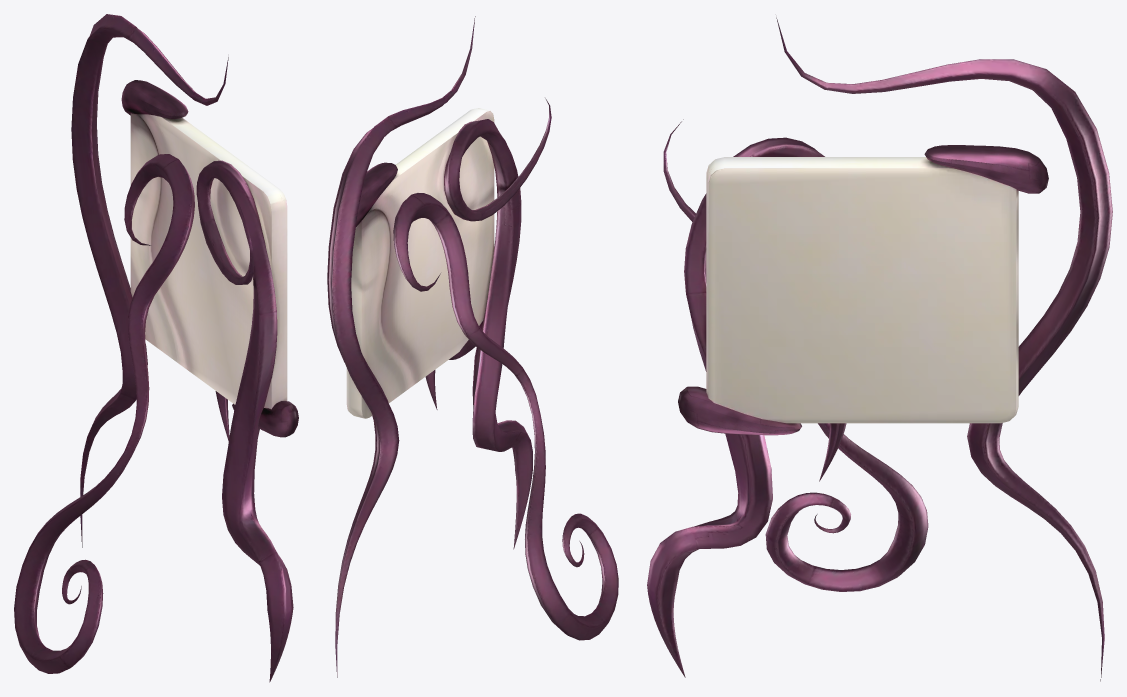
Rendered from chevalet-enfer.glb.
3 renders of one model, left to right at view 1: azimuth 30°, elevation 25°; view 2: azimuth 150°, elevation 25°; view 3: azimuth 270°, elevation 25°, orthographic. The views are drawn at different scales.
Parts seen in each view (by area): view 1: Cube.006, BézierCurve.001, BézierCurve, BézierCurve.002, Cube.002, Cube.005; view 2: Cube.006, BézierCurve, BézierCurve.001, BézierCurve.002, Cube.002; view 3: Cube.006, BézierCurve.002, BézierCurve.001, BézierCurve, Cube.002, Cube.005.
Boxes of the visible parts, <box> form: Cube.006: <box>130,113,287,409</box>; BézierCurve.001: <box>196,160,293,682</box>; BézierCurve: <box>14,154,194,673</box>; BézierCurve.002: <box>71,14,228,547</box>; Cube.002: <box>121,80,188,119</box>; Cube.005: <box>232,401,298,437</box>; Cube.006: <box>346,108,494,418</box>; BézierCurve: <box>393,193,618,640</box>; BézierCurve.001: <box>444,98,551,549</box>; BézierCurve.002: <box>327,16,475,677</box>; Cube.002: <box>356,162,397,226</box>; Cube.006: <box>706,157,1018,423</box>; BézierCurve.002: <box>776,17,1112,681</box>; BézierCurve.001: <box>647,119,824,677</box>; BézierCurve: <box>765,423,928,591</box>; Cube.002: <box>924,145,1048,193</box>; Cube.005: <box>678,386,801,435</box>.
Bounding box in the file's own units: 1.51 × 4.34 × 2.74.
Materials: 2 (2 with a texture image).
